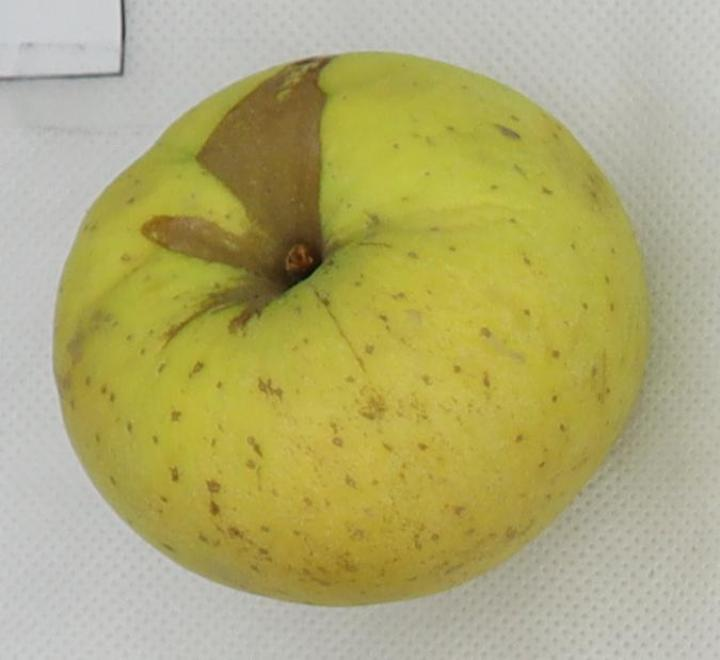apple: (54, 52, 647, 604)
bruise_discoloration: (143, 59, 329, 327)
